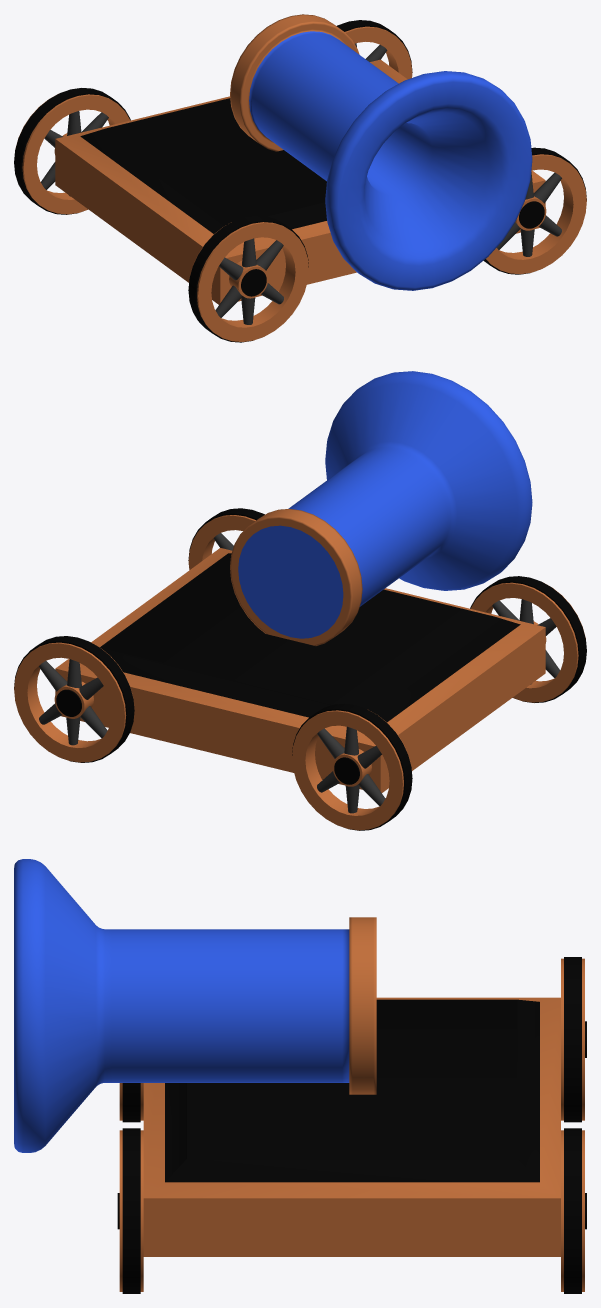
The model's file is Shotgun_Cannon.fbx.
3 renders of one model, top to bottom at view 1: azimuth 30°, elevation 25°; view 2: azimuth 150°, elevation 25°; view 3: azimuth 270°, elevation 25°, orthographic. The views are drawn at different scales.
Parts seen in each view (by area): view 1: Plane.005, Cylinder; view 2: Plane.005, Cylinder; view 3: Plane.005, Cylinder.
Boxes of the visible parts, x1,y1,x2,y2 form: Plane.005: [14, 20, 586, 342]; Cylinder: [230, 14, 532, 290]; Plane.005: [14, 508, 586, 830]; Cylinder: [230, 371, 532, 645]; Plane.005: [117, 957, 586, 1293]; Cylinder: [14, 859, 376, 1152].
Bounding box in the file's own units: 2001 × 1267 × 2006.
